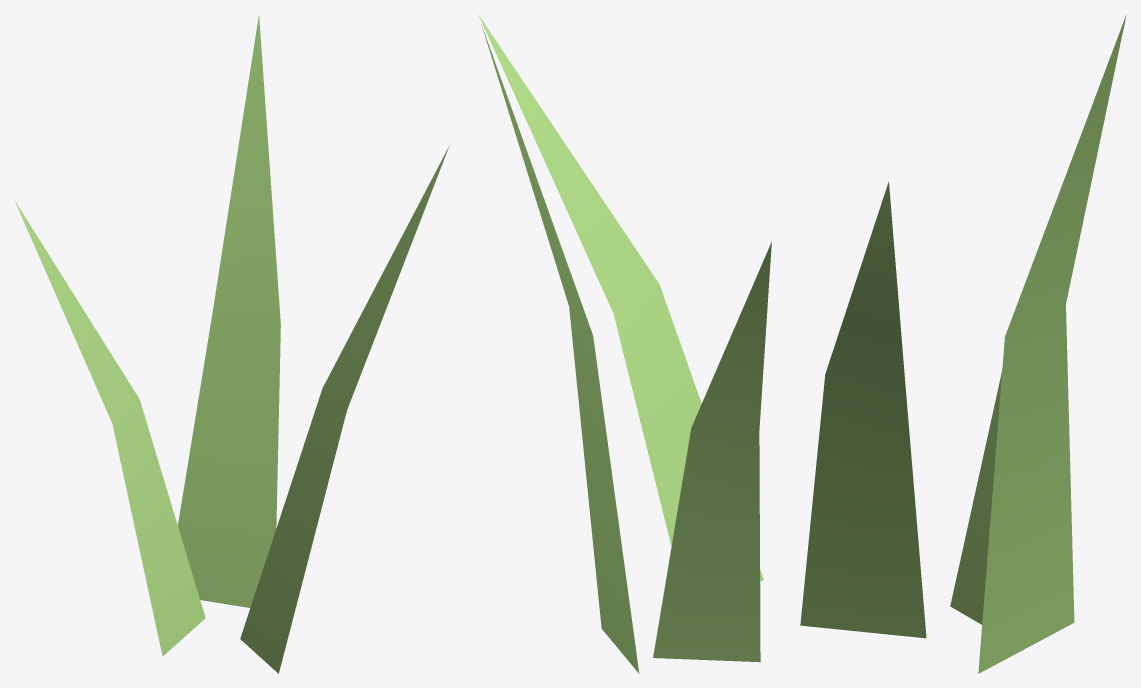
The model's file is Grass_a_TwoS_02.fbx.
3 renders of one model, left to right at view 1: azimuth 30°, elevation 25°; view 2: azimuth 150°, elevation 25°; view 3: azimuth 270°, elevation 25°, orthographic. The views are drawn at different scales.
Visible parts, largest first — view 1: Grass_a_TwoS_02; view 2: Grass_a_TwoS_02; view 3: Grass_a_TwoS_02.
Part boxes in pixels (x1,y1,x2,y2): Grass_a_TwoS_02: (14, 15, 449, 673); Grass_a_TwoS_02: (478, 14, 771, 673); Grass_a_TwoS_02: (800, 14, 1126, 673).
Bounding box in the file's own units: 37.37 × 57.52 × 24.48.
